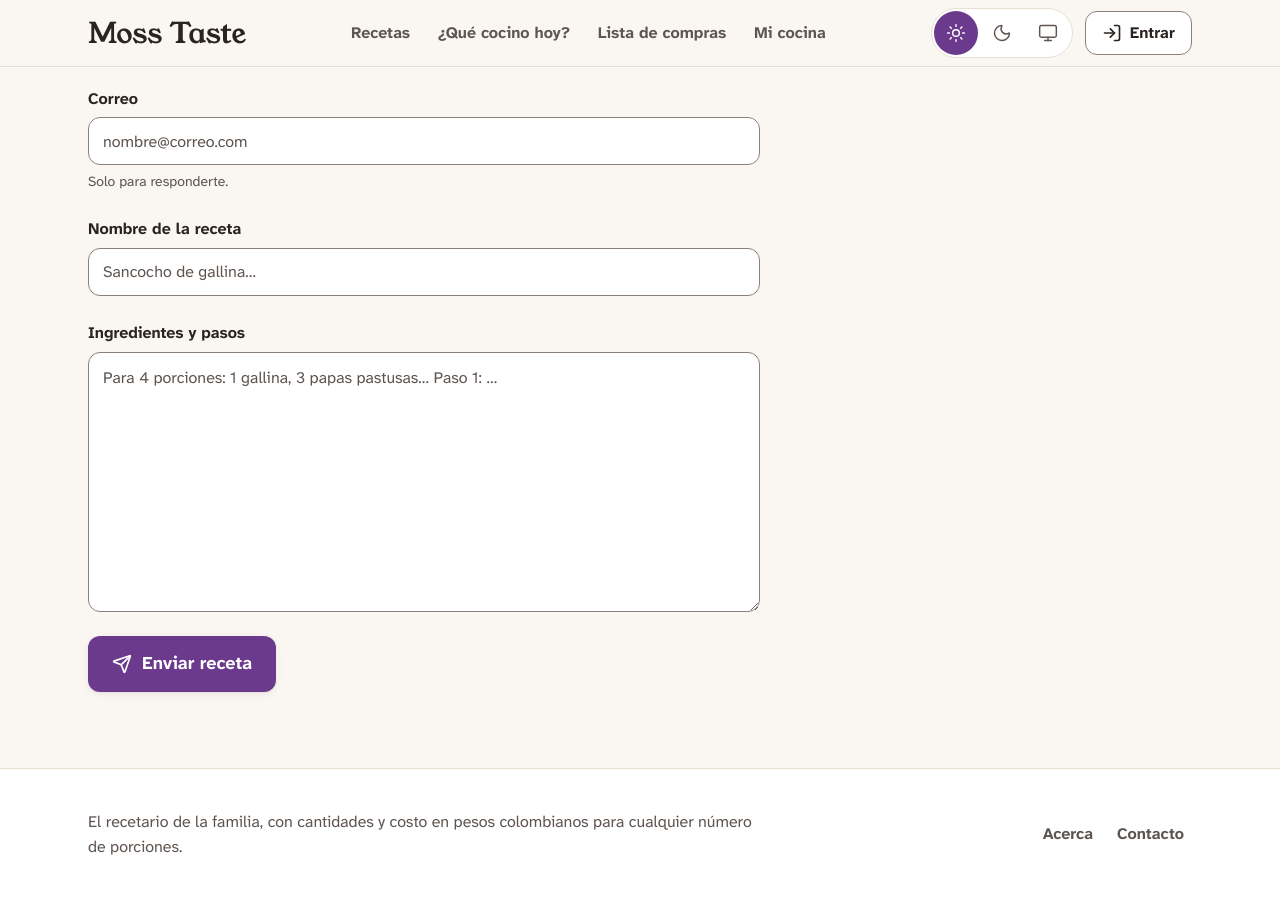
Test: formularios › contacto: al enviar vacío marca errores y enfoca el primero
(page scrolled)
Click the button "Enviar receta": (182, 664) [88, 636, 276, 692]
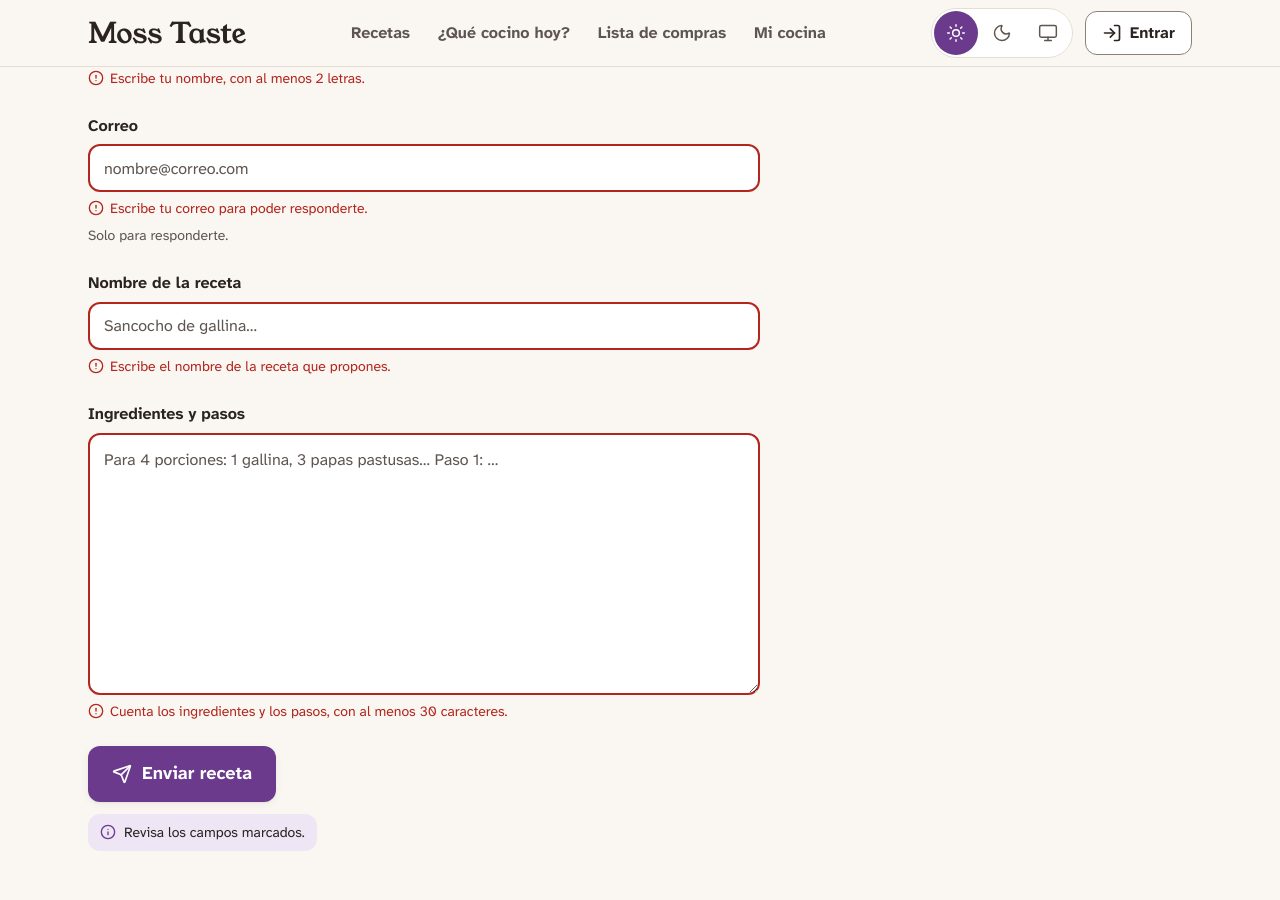
Expected: the text "Revisa los campos marcados." is shown, [88, 814, 317, 851]
